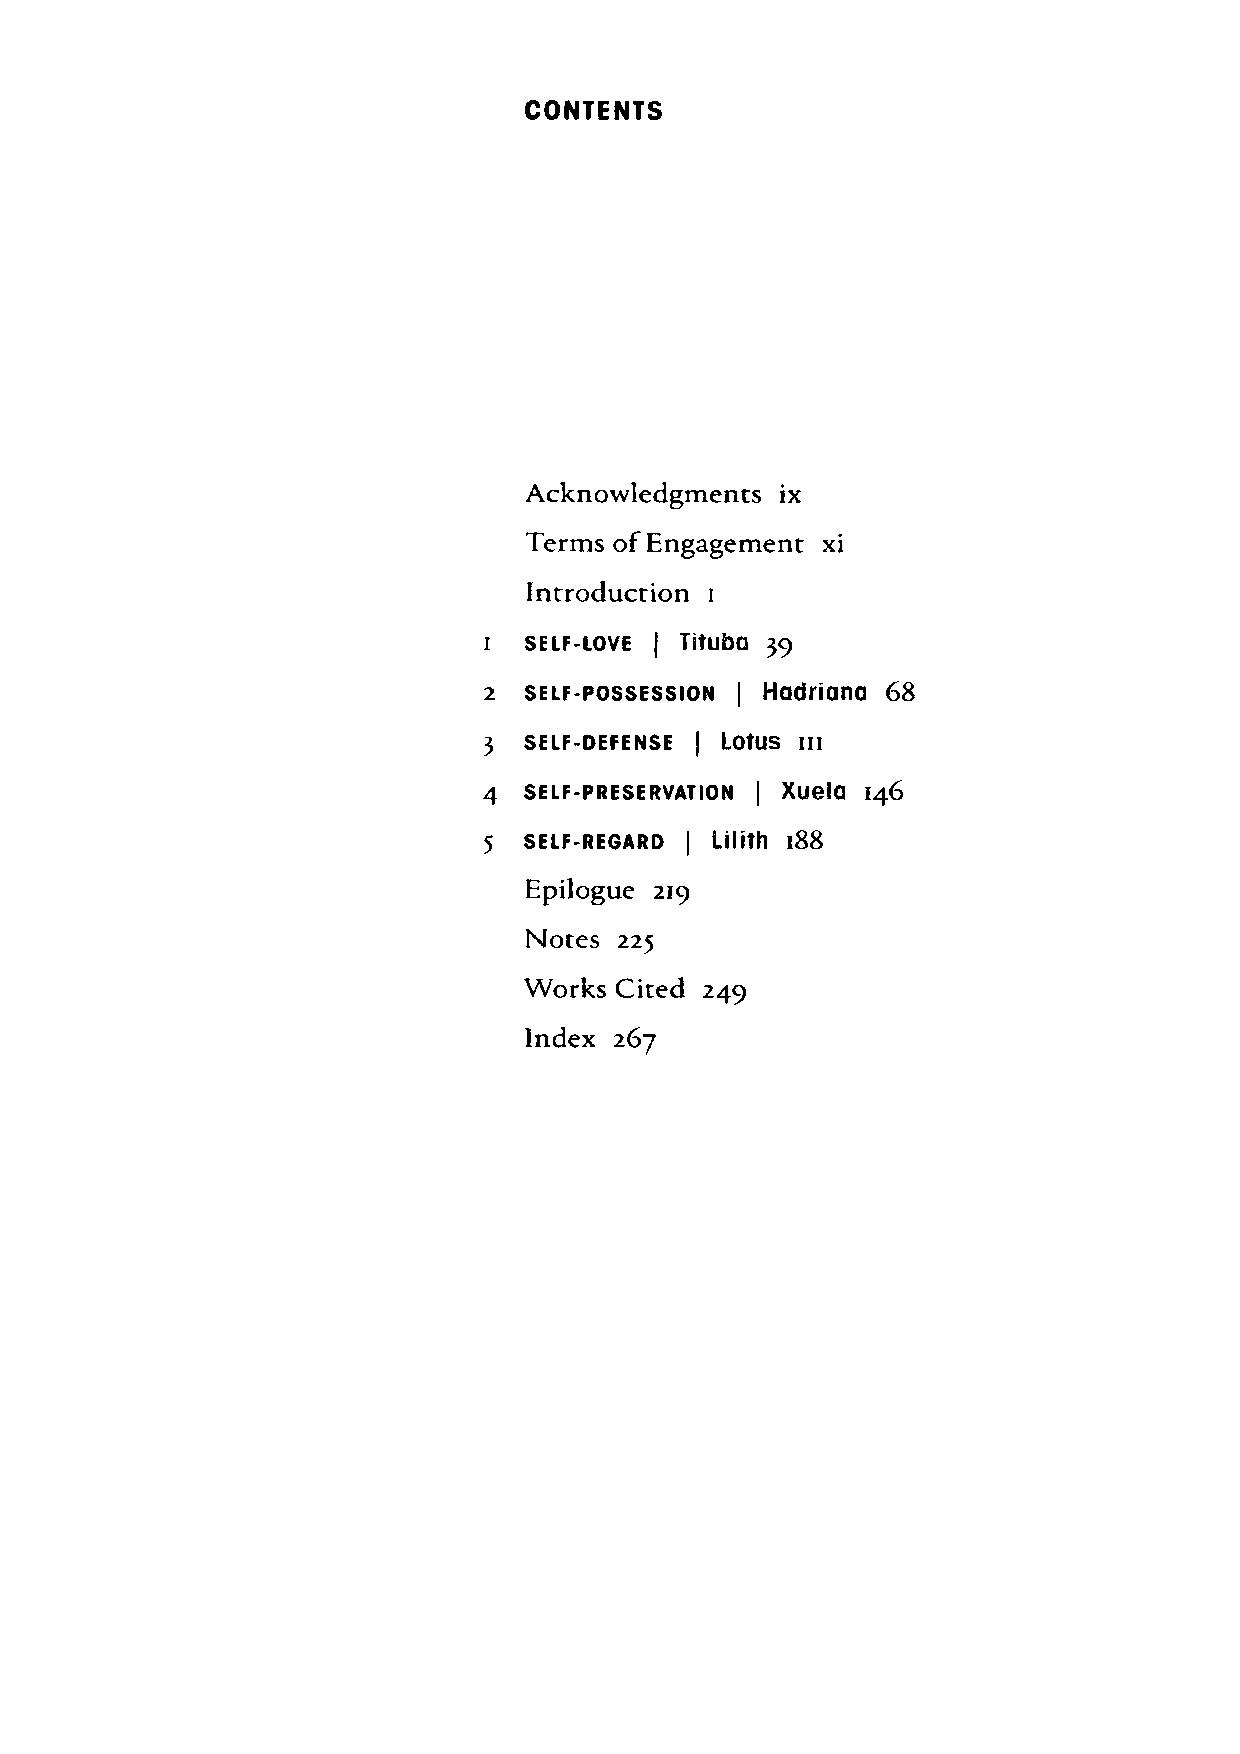TOC_chapter: (482, 680, 867, 705), (483, 780, 845, 805), (523, 529, 804, 558), (480, 629, 752, 659), (480, 827, 768, 854), (480, 731, 780, 756), (523, 480, 762, 509), (525, 578, 692, 603), (522, 976, 687, 998), (522, 878, 635, 905), (522, 926, 600, 950), (519, 1025, 596, 1049)
TOC_pagenumber: (612, 1023, 656, 1053), (699, 981, 747, 1005), (862, 778, 905, 805), (784, 824, 821, 849), (615, 931, 656, 954), (651, 882, 691, 905), (883, 676, 917, 702), (762, 635, 794, 659), (778, 480, 803, 505), (794, 733, 825, 752), (819, 531, 845, 552), (705, 584, 717, 603)
chapter: (519, 94, 662, 123)
